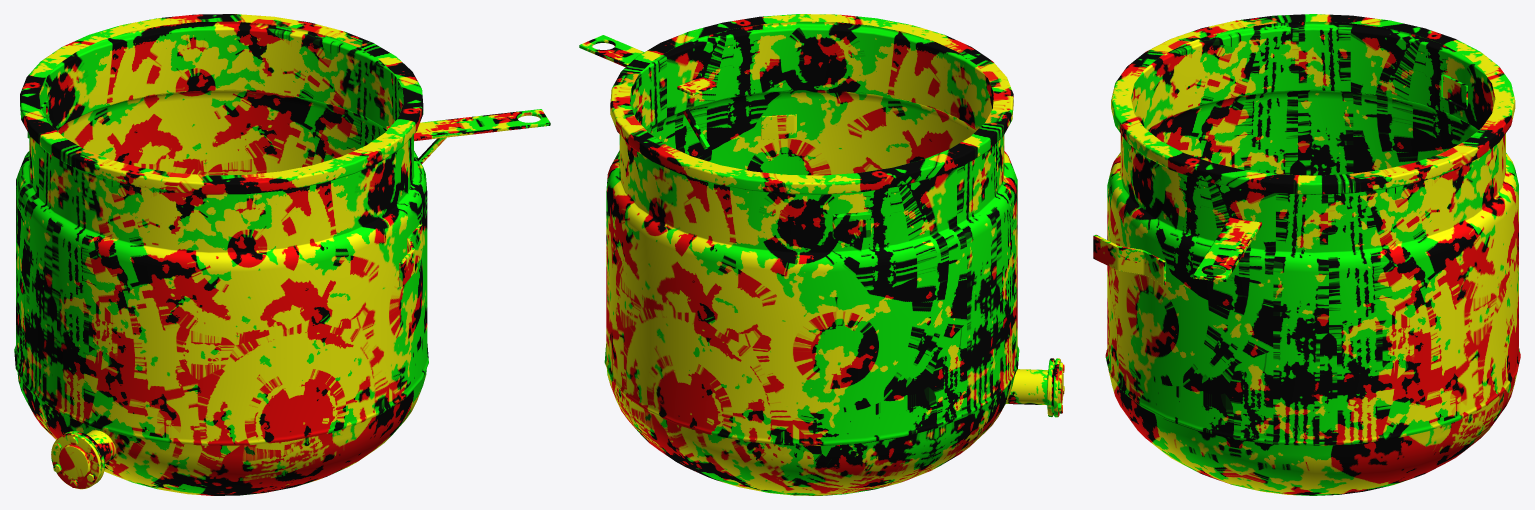
Rendered from sm_Container_Body_01_01.fbx.
3 views of the same model, side by side, from view 1: azimuth 30°, elevation 25°; view 2: azimuth 150°, elevation 25°; view 3: azimuth 270°, elevation 25° (orthographic).
Parts seen in each view (by area): view 1: sm_Container_Body_01_01_LOD0; view 2: sm_Container_Body_01_01_LOD0; view 3: sm_Container_Body_01_01_LOD0.
Boxes of the visible parts, box(x1,y1,x2,y2) form: sm_Container_Body_01_01_LOD0: box(14, 14, 550, 495); sm_Container_Body_01_01_LOD0: box(579, 14, 1064, 495); sm_Container_Body_01_01_LOD0: box(1093, 14, 1520, 495).
Bounding box in the file's own units: 207 × 158 × 148.
